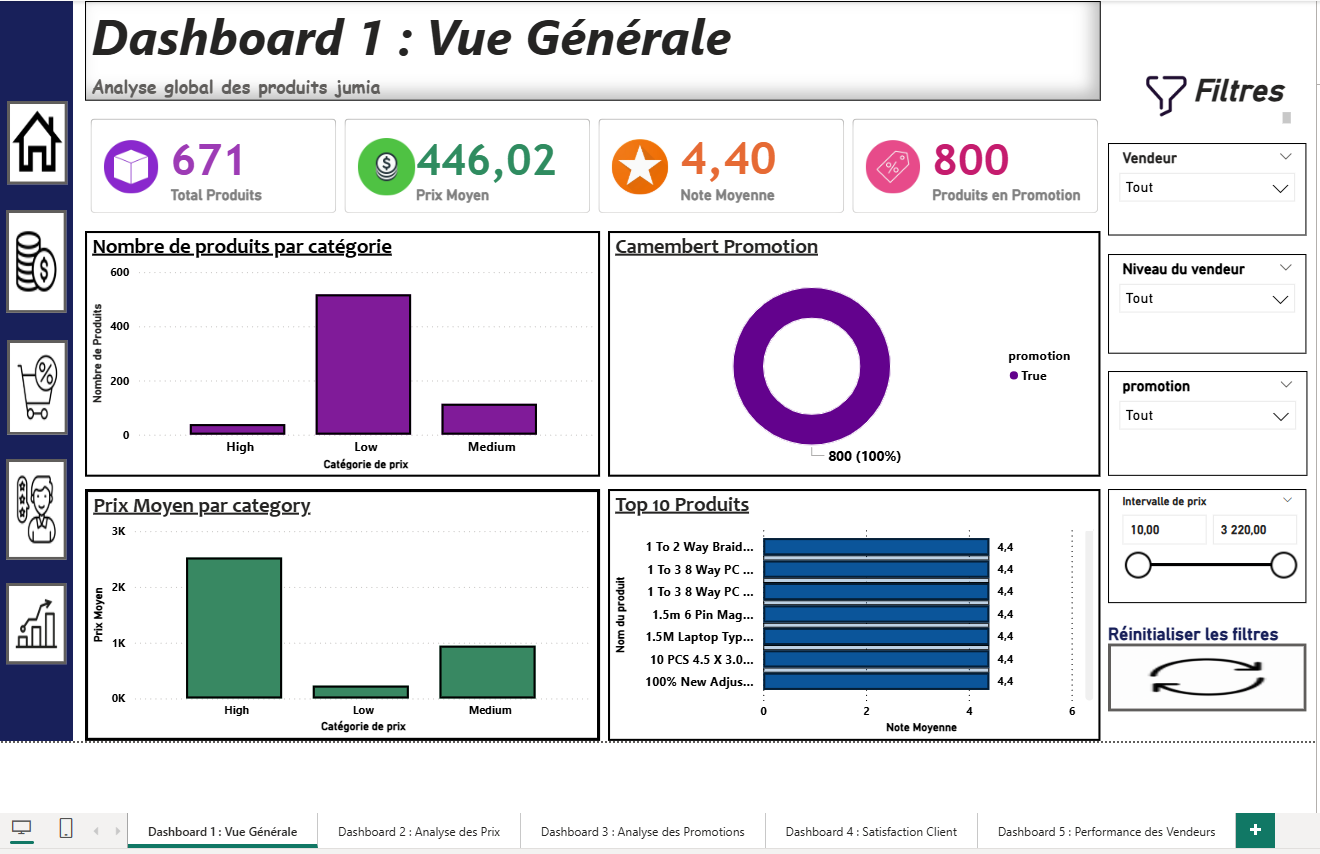

The page's visual inventory and layout, read from the dashboard file:
{"tool":"powerbi","page":{"name":"Dashboard 1 : Vue Générale","canvas":[1280,720],"ordinal":0},"visuals":[{"type":"textbox","title":"Dashboard 1 : Vue Générale","box":[82.3,0,987.9,97],"z":0},{"type":"textbox","box":[0,0,71,719.5],"z":1000},{"type":"cardVisual","fields":{"Data":["vue generale.Total Produits","vue generale.Prix Moyen","vue generale.Note Moyenne","vue generale.Produits en Promotion"]},"box":[71,97,1015,126.3],"z":2000},{"type":"columnChart","title":"Nombre de produits par catégorie","fields":{"Category":["dw dim_product.price_category"],"Y":["vue generale.Total Produits"]},"box":[82.3,223.3,500.7,239.1],"z":3000},{"type":"donutChart","title":"Camembert Promotion","fields":{"Series":["dw fact_products.is_discounted"],"Y":["vue generale.Nombre Produits"]},"box":[590.9,223.3,479.3,239.1],"z":4000},{"type":"columnChart","title":"Prix Moyen par category","fields":{"Category":["dw dim_product.price_category"],"Y":["vue generale.Prix Moyen"]},"box":[82.3,474.8,500.7,244.7],"z":5000},{"type":"barChart","title":"Top 10 Produits ","fields":{"Category":["dw dim_product.name"],"Y":["vue generale.Note Moyenne"]},"box":[590.9,474.8,479.3,244.7],"z":6000},{"type":"textbox","title":"Filtres ","box":[1155.9,68.8,104.9,55.3],"z":7000},{"type":"slicer","fields":{"Values":["dw dim_vendor.seller_id"]},"box":[1078.2,137.9,193.1,89.7],"z":8000},{"type":"slicer","fields":{"Values":["dw dim_vendor.seller_level"]},"box":[1078.2,363.2,193.1,98.9],"z":9000},{"type":"image","box":[1104.1,68.8,60.9,47.4],"z":10000},{"type":"actionButton","title":"Réinitialiser les filtres","box":[1078.2,605.7,193.1,85.1],"z":11000},{"type":"actionButton","box":[5.6,203,58.6,100.4],"z":12000},{"type":"actionButton","box":[6.8,329.3,58.6,92.5],"z":13000},{"type":"actionButton","box":[5.6,445.5,58.6,98.1],"z":14000},{"type":"actionButton","box":[5.6,566.1,58.6,78.9],"z":15000},{"type":"actionButton","box":[6.8,97,58.6,81.2],"z":16000},{"type":"slicer","fields":{"Values":["dw dim_vendor.seller_level"]},"box":[1078.2,246,193.1,96.6],"z":17000},{"type":"slicer","fields":{"Values":["dw fact_products.new_price"]},"box":[1078.2,474.7,193.1,111.5],"z":18000}]}

Visuals, with their boxes in screenshot pixels (x1, y1, x2, y2):
"Dashboard 1 : Vue Générale" textbox: [87,0,1092,99]
textbox: [3,0,76,732]
cardVisual - vue generale.Total Produits x vue generale.Prix Moyen: [76,99,1108,227]
"Nombre de produits par catégorie" columnChart: [87,227,596,470]
"Camembert Promotion" donutChart: [604,227,1092,470]
"Prix Moyen par category" columnChart: [87,483,596,732]
"Top 10 Produits " barChart: [604,483,1092,732]
"Filtres " textbox: [1179,70,1286,126]
slicer - dw dim_vendor.seller_id: [1100,140,1296,231]
slicer - dw dim_vendor.seller_level: [1100,369,1296,470]
image: [1126,70,1188,118]
"Réinitialiser les filtres" actionButton: [1100,616,1296,703]
actionButton: [9,206,69,309]
actionButton: [10,335,70,429]
actionButton: [9,453,69,553]
actionButton: [9,576,69,656]
actionButton: [10,99,70,181]
slicer - dw dim_vendor.seller_level: [1100,250,1296,348]
slicer - dw fact_products.new_price: [1100,483,1296,596]
